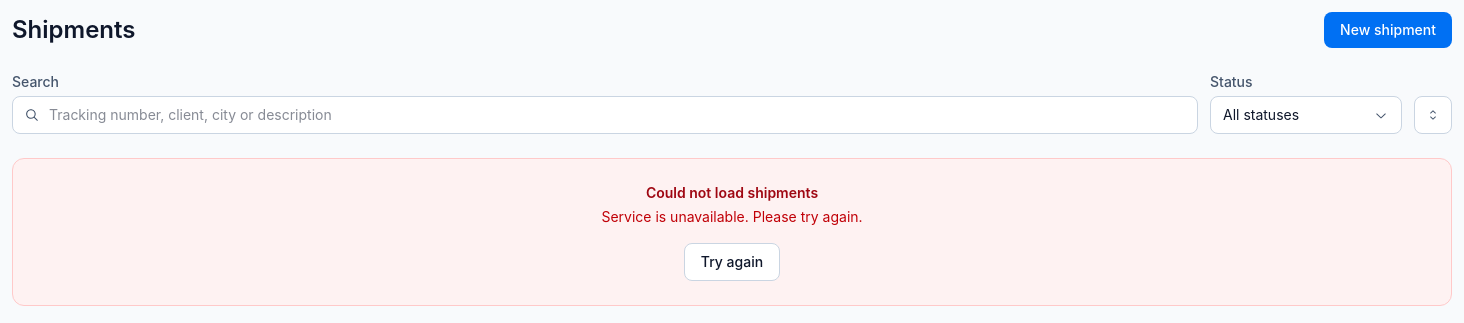
it: ShipmentsList › loads again on "Try again"
Click the button "Try again" at (732, 262), box [684,243,780,281]
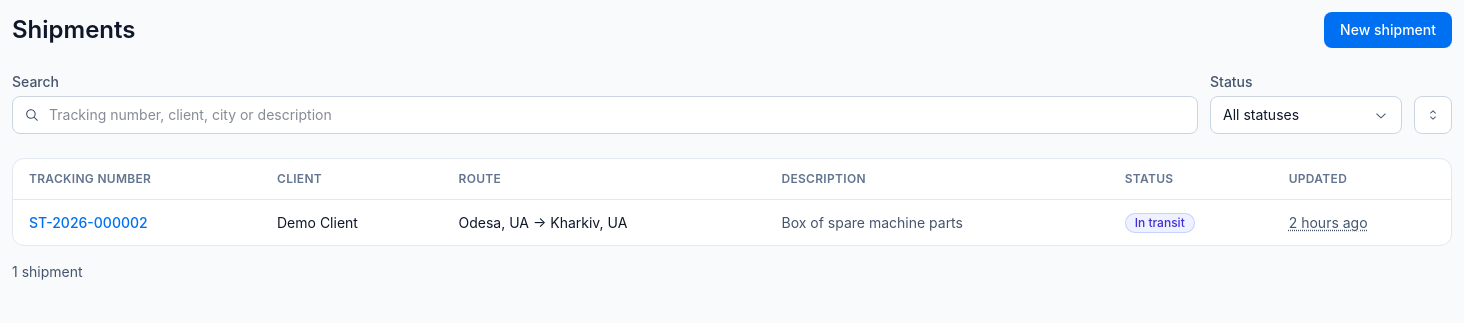
Expected: the table is shown, [13,159,1451,245]
Expected: the message "Could not load shipments Service is unavailable. Please try again. Try again" is gone
